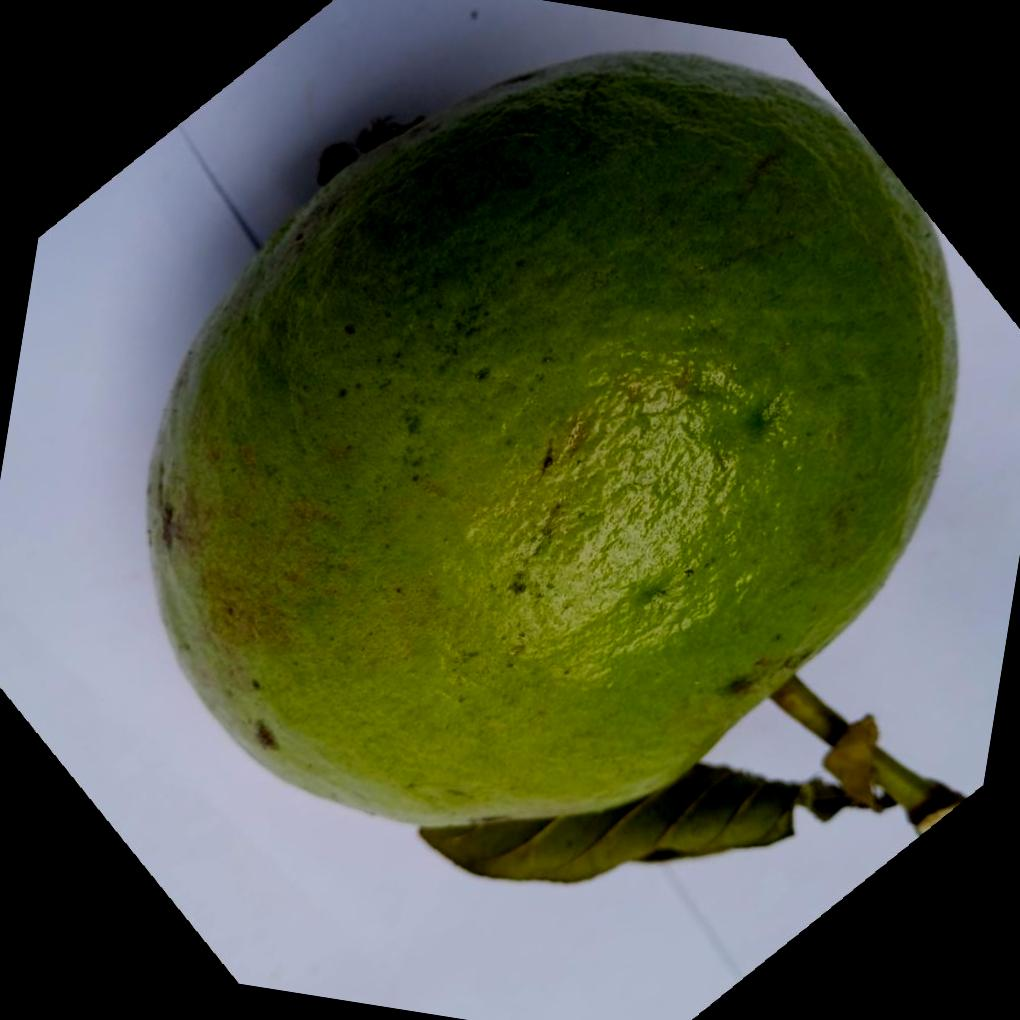FreshGuava: (142, 46, 964, 886)
